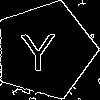Y: (20, 25, 56, 71)
